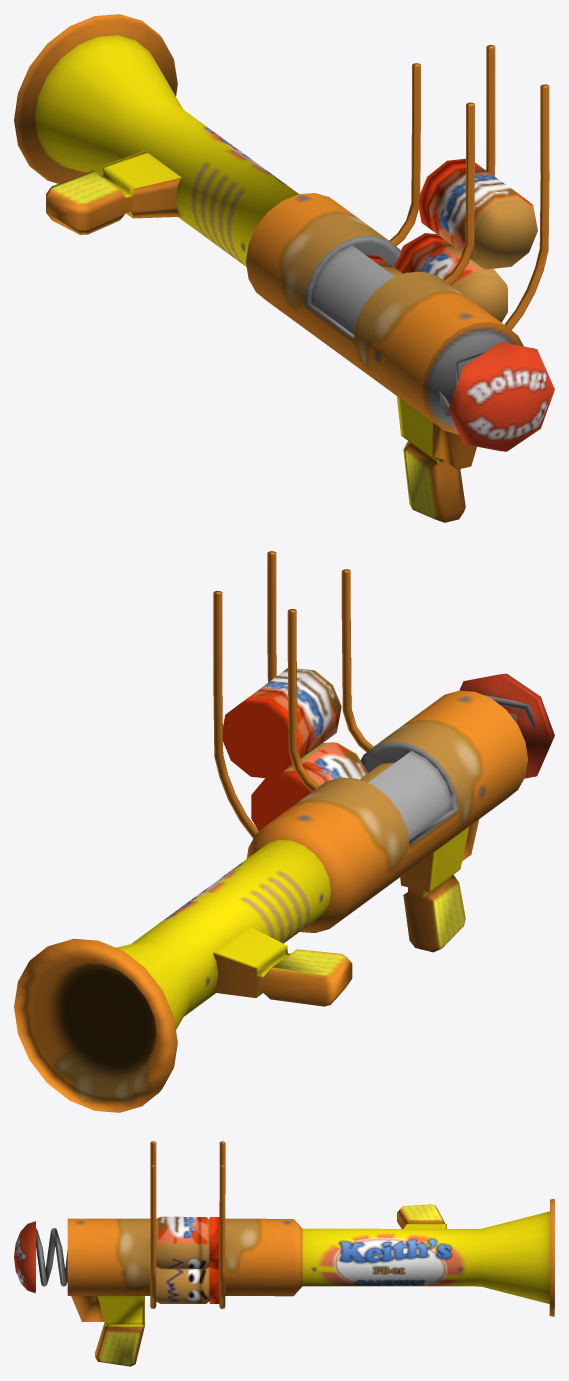
File: pblauncher_2jars.obj
3 renders of one model, top to bottom at view 1: azimuth 30°, elevation 25°; view 2: azimuth 150°, elevation 25°; view 3: azimuth 270°, elevation 25°, orthographic. The views are drawn at different scales.
Visible parts, largest first — view 1: pblauncher_2jars; view 2: pblauncher_2jars; view 3: pblauncher_2jars.
Part boxes in pixels (x1,y1,x2,y2): pblauncher_2jars: (14,14,554,522); pblauncher_2jars: (14,551,554,1112); pblauncher_2jars: (14,1141,554,1366).
Bounding box in the file's own units: 3.02 × 3.83 × 7.78.
Materials: 1 (1 with a texture image).
